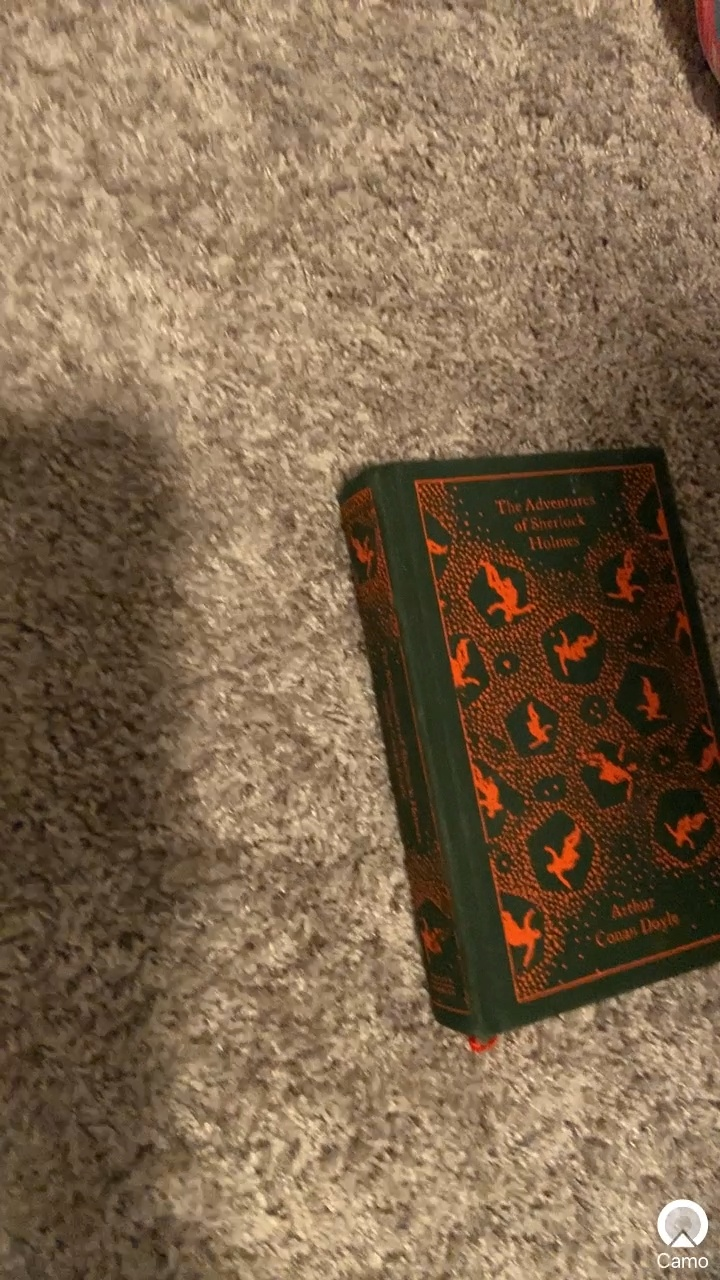Book: (295, 432, 720, 1054)
